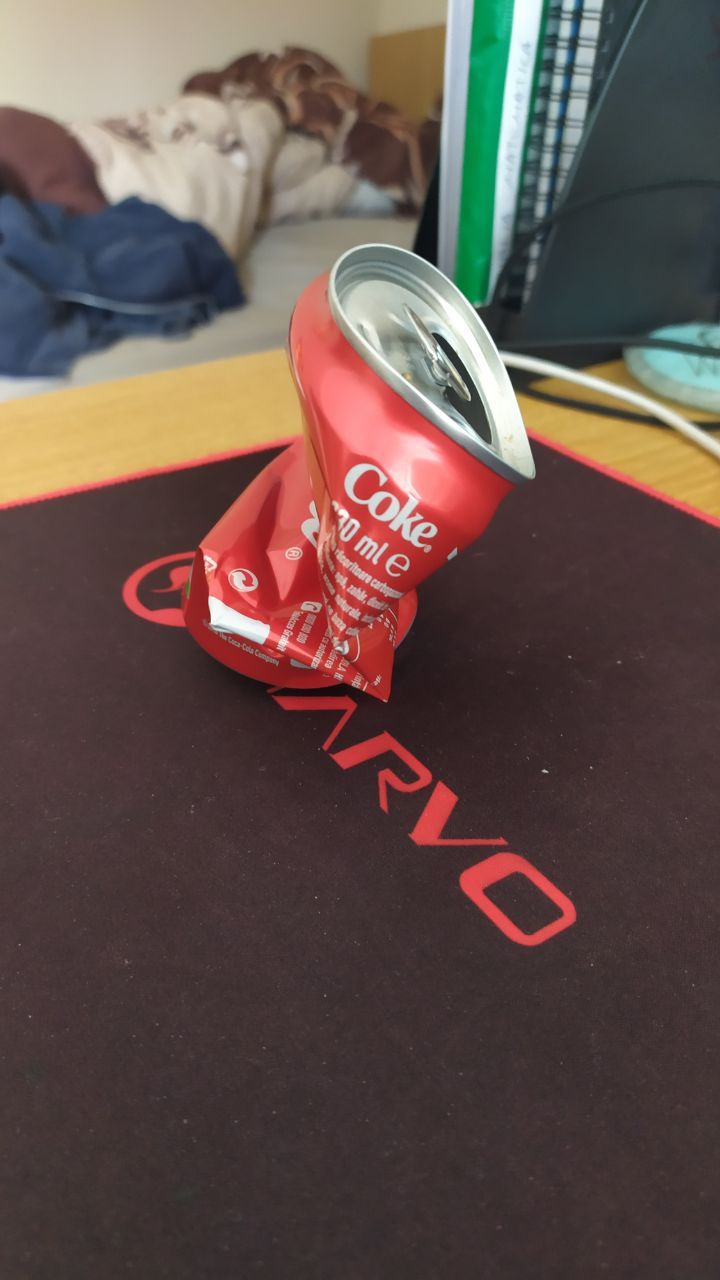Can: (187, 235, 544, 725)
